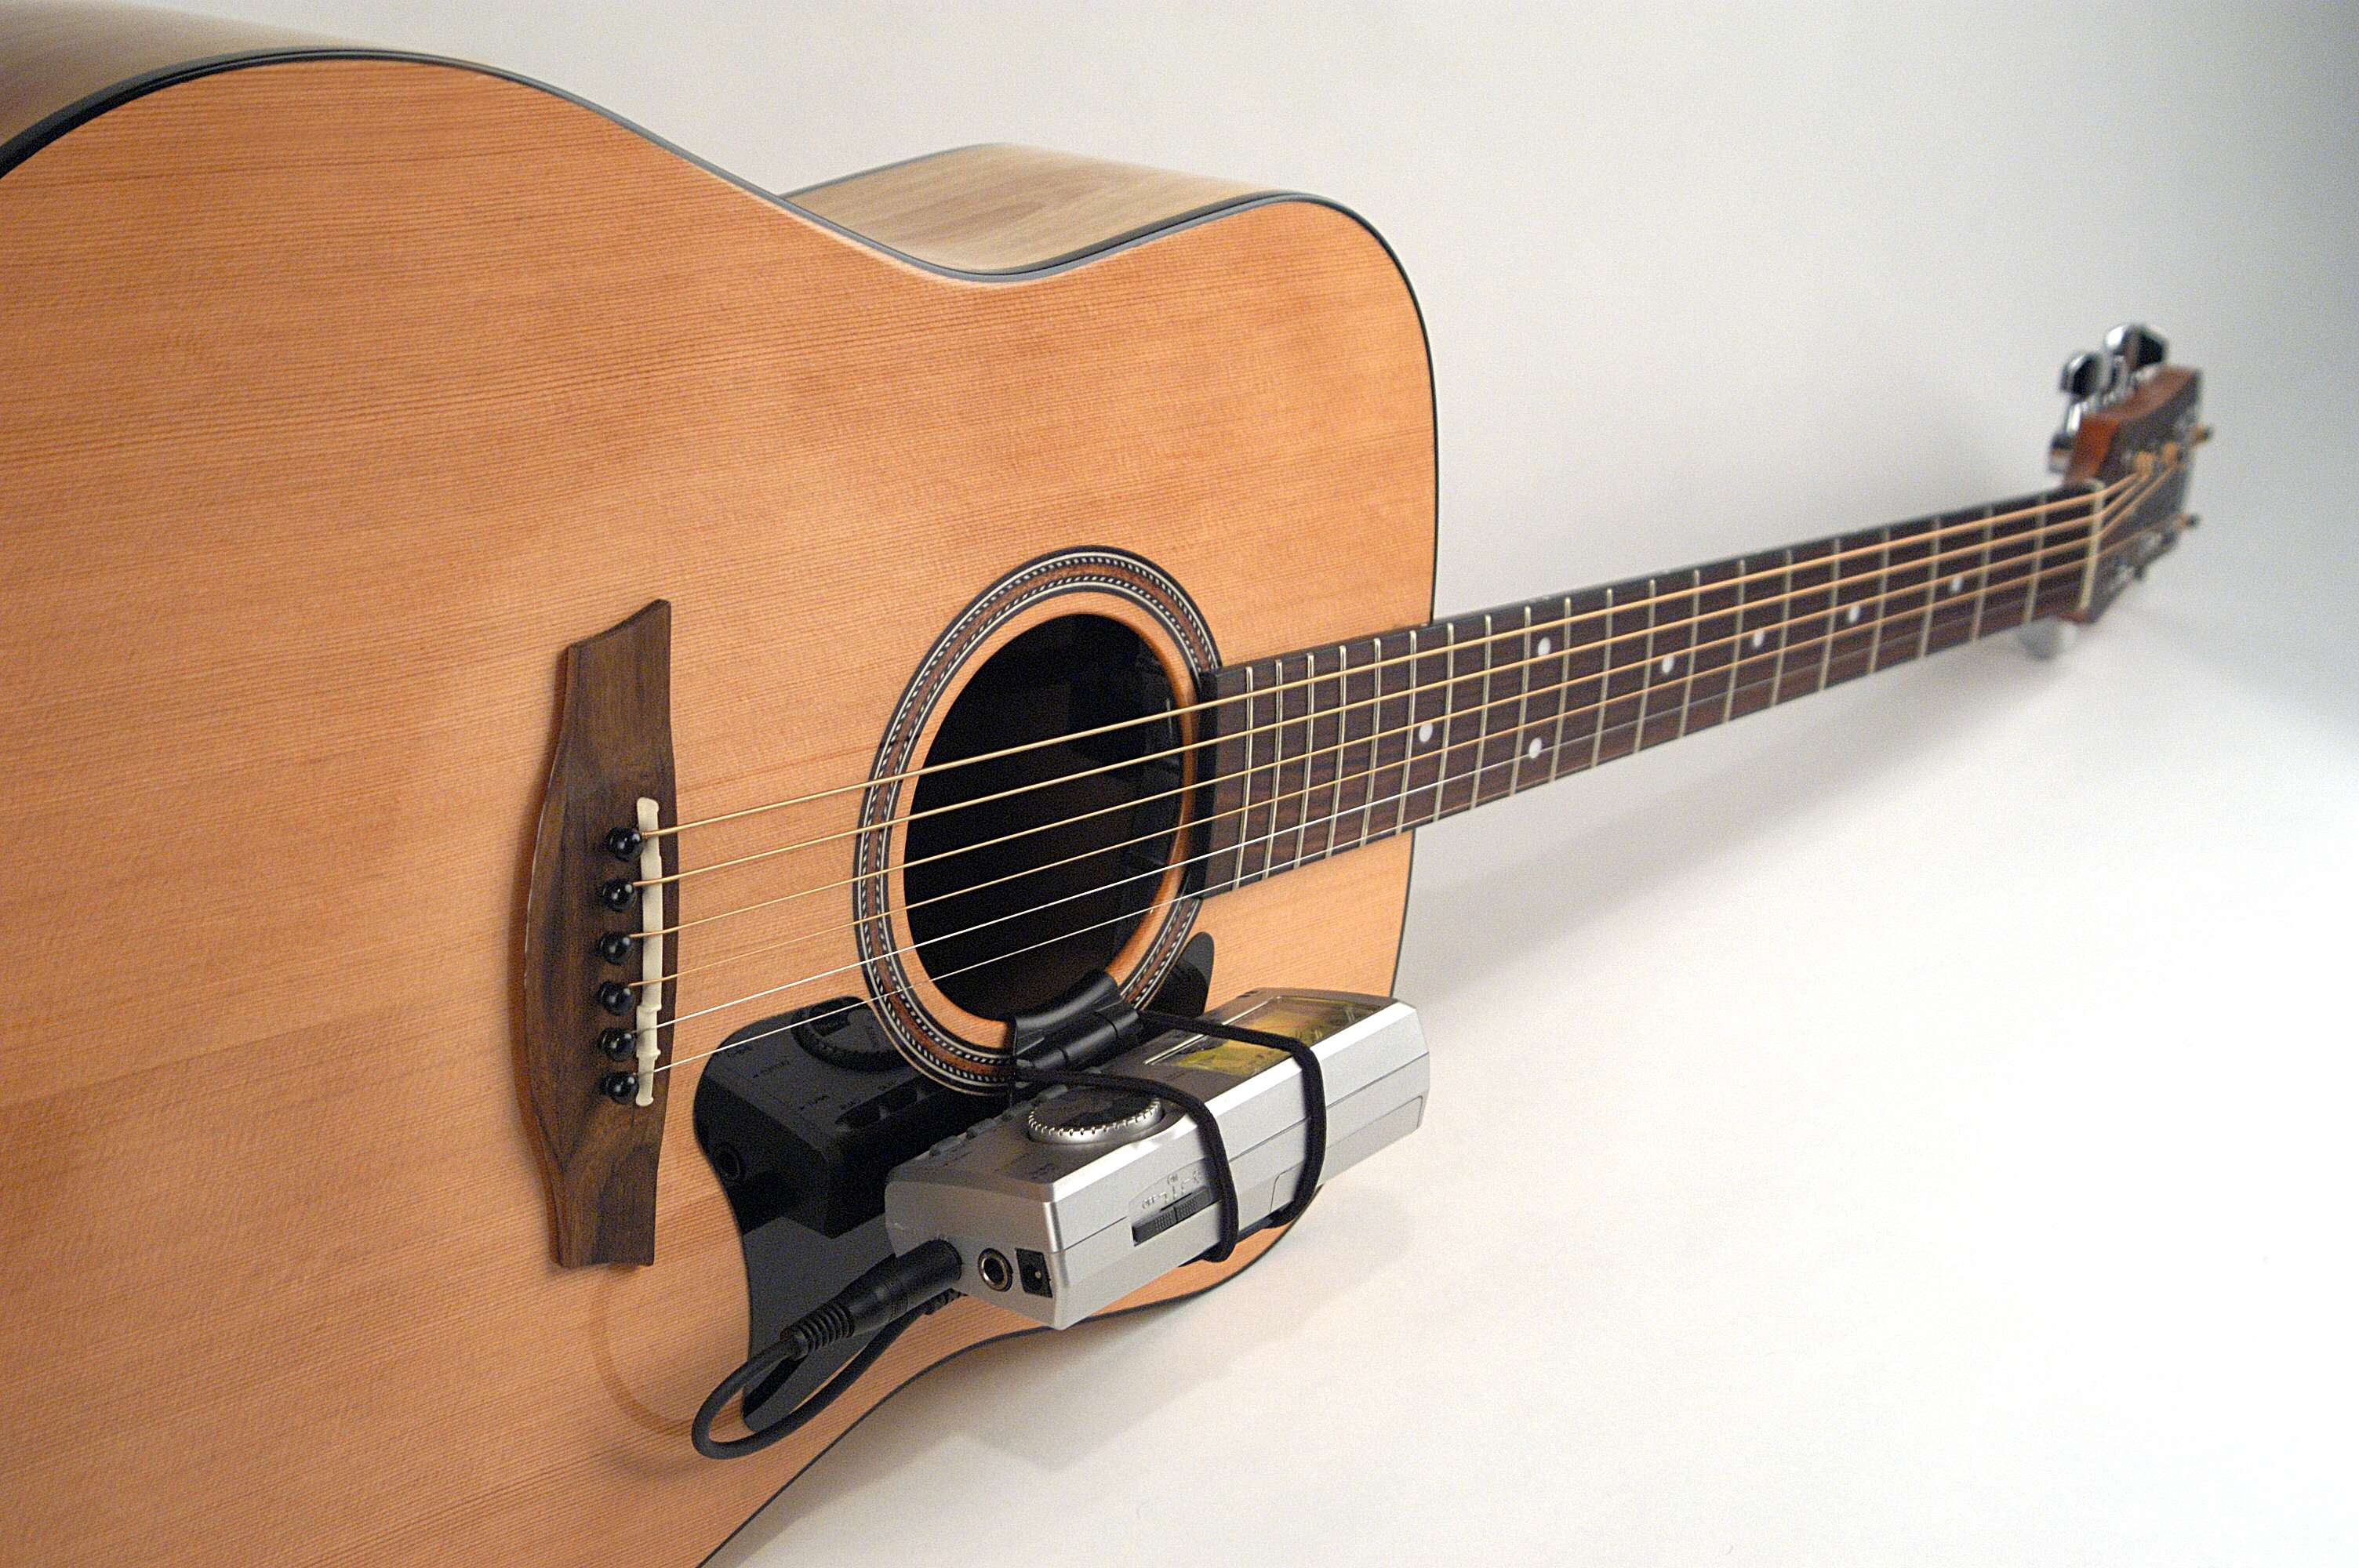guitar: (0, 2, 2215, 1568)
